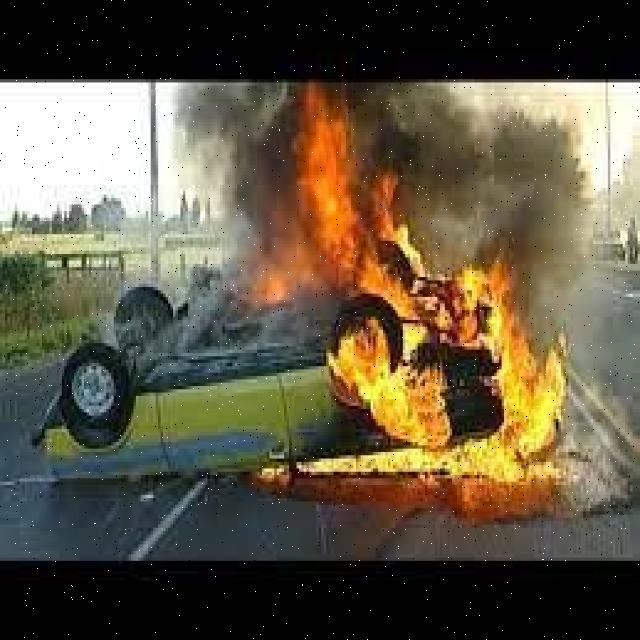severe: (37, 269, 524, 490)
